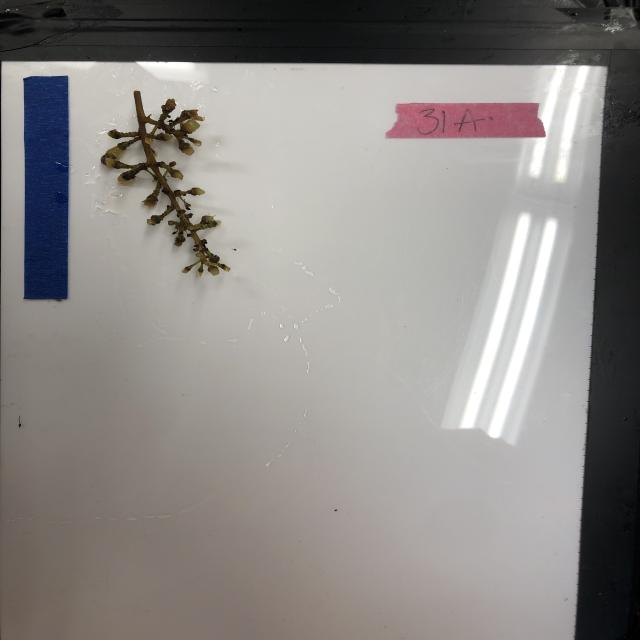index: (386, 99, 548, 141)
measure_label: (20, 74, 72, 302)
rachis_cluster: (100, 89, 238, 279)
